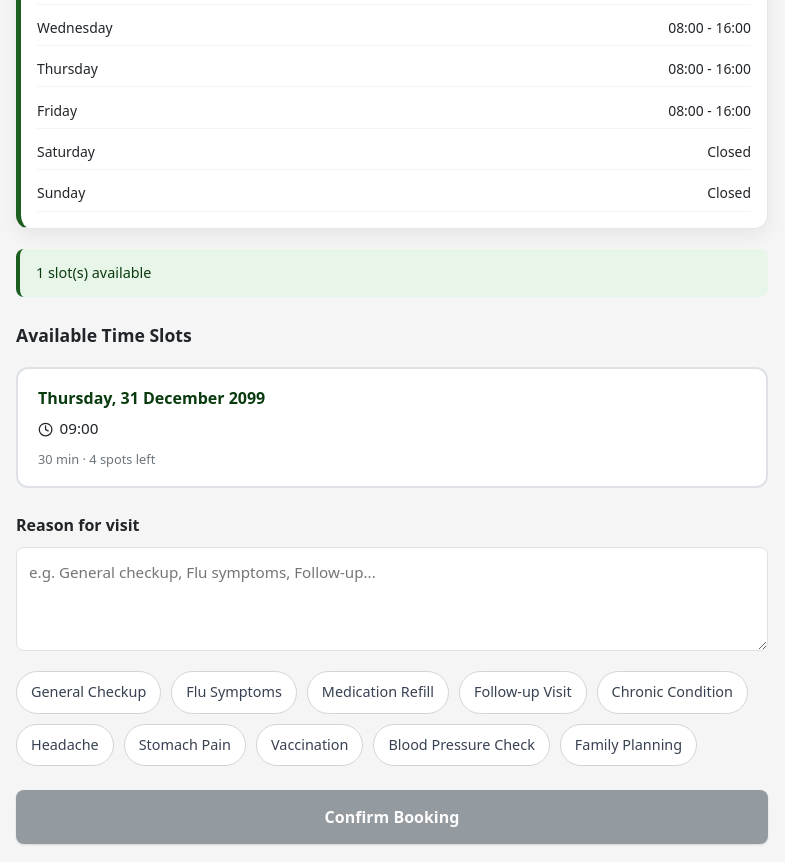
it: Reason input & suggestion chips › clicking a reason chip appends it to the textarea
(page scrolled)
Check: the text "09:00" is shown, box [38, 418, 98, 438]
Click the button "General Checkup".
click(89, 692)  # box [16, 671, 161, 714]
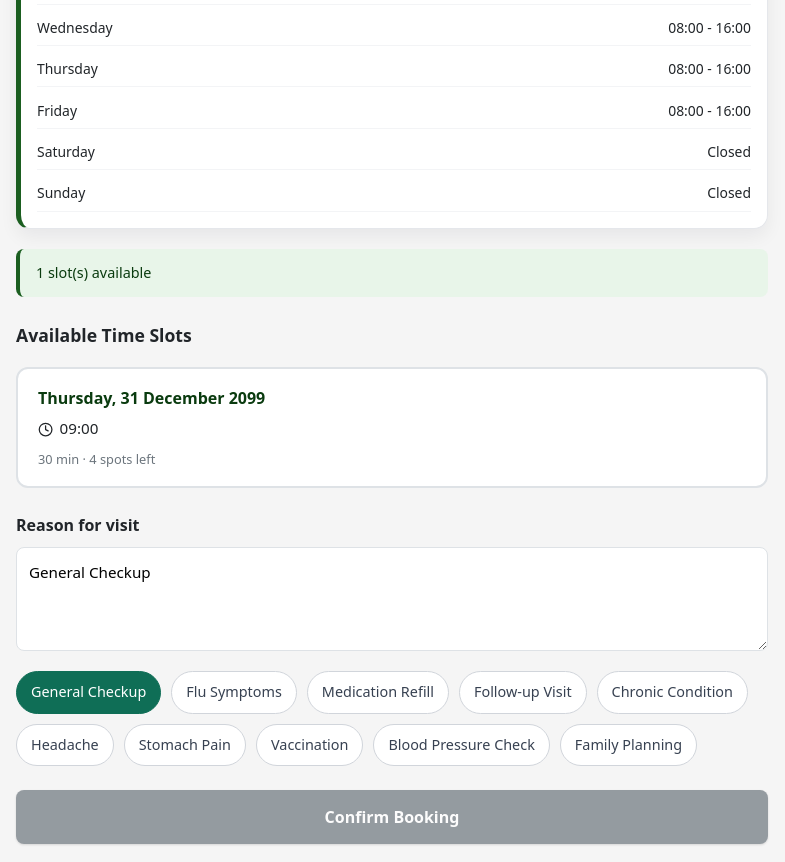
Check: the text box with placeholder "e.g. General checkup, Flu symptoms, Follow-up..." holds "General Checkup", box [16, 548, 768, 651]
